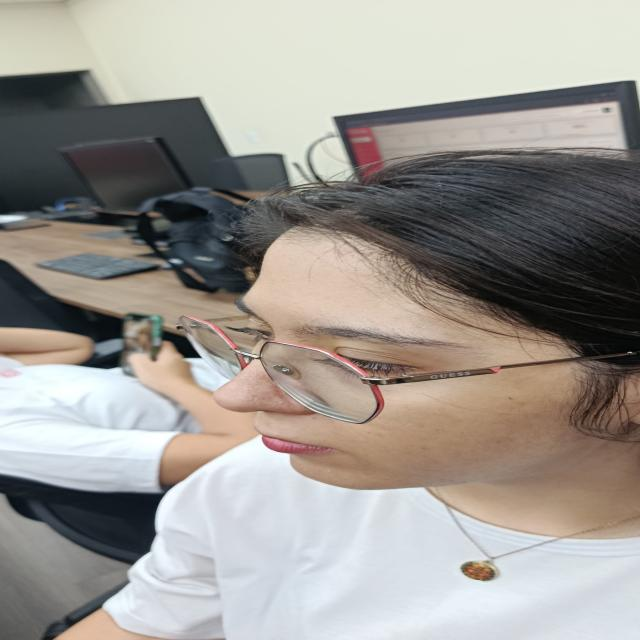sem_oculos: (172, 314, 639, 425)
